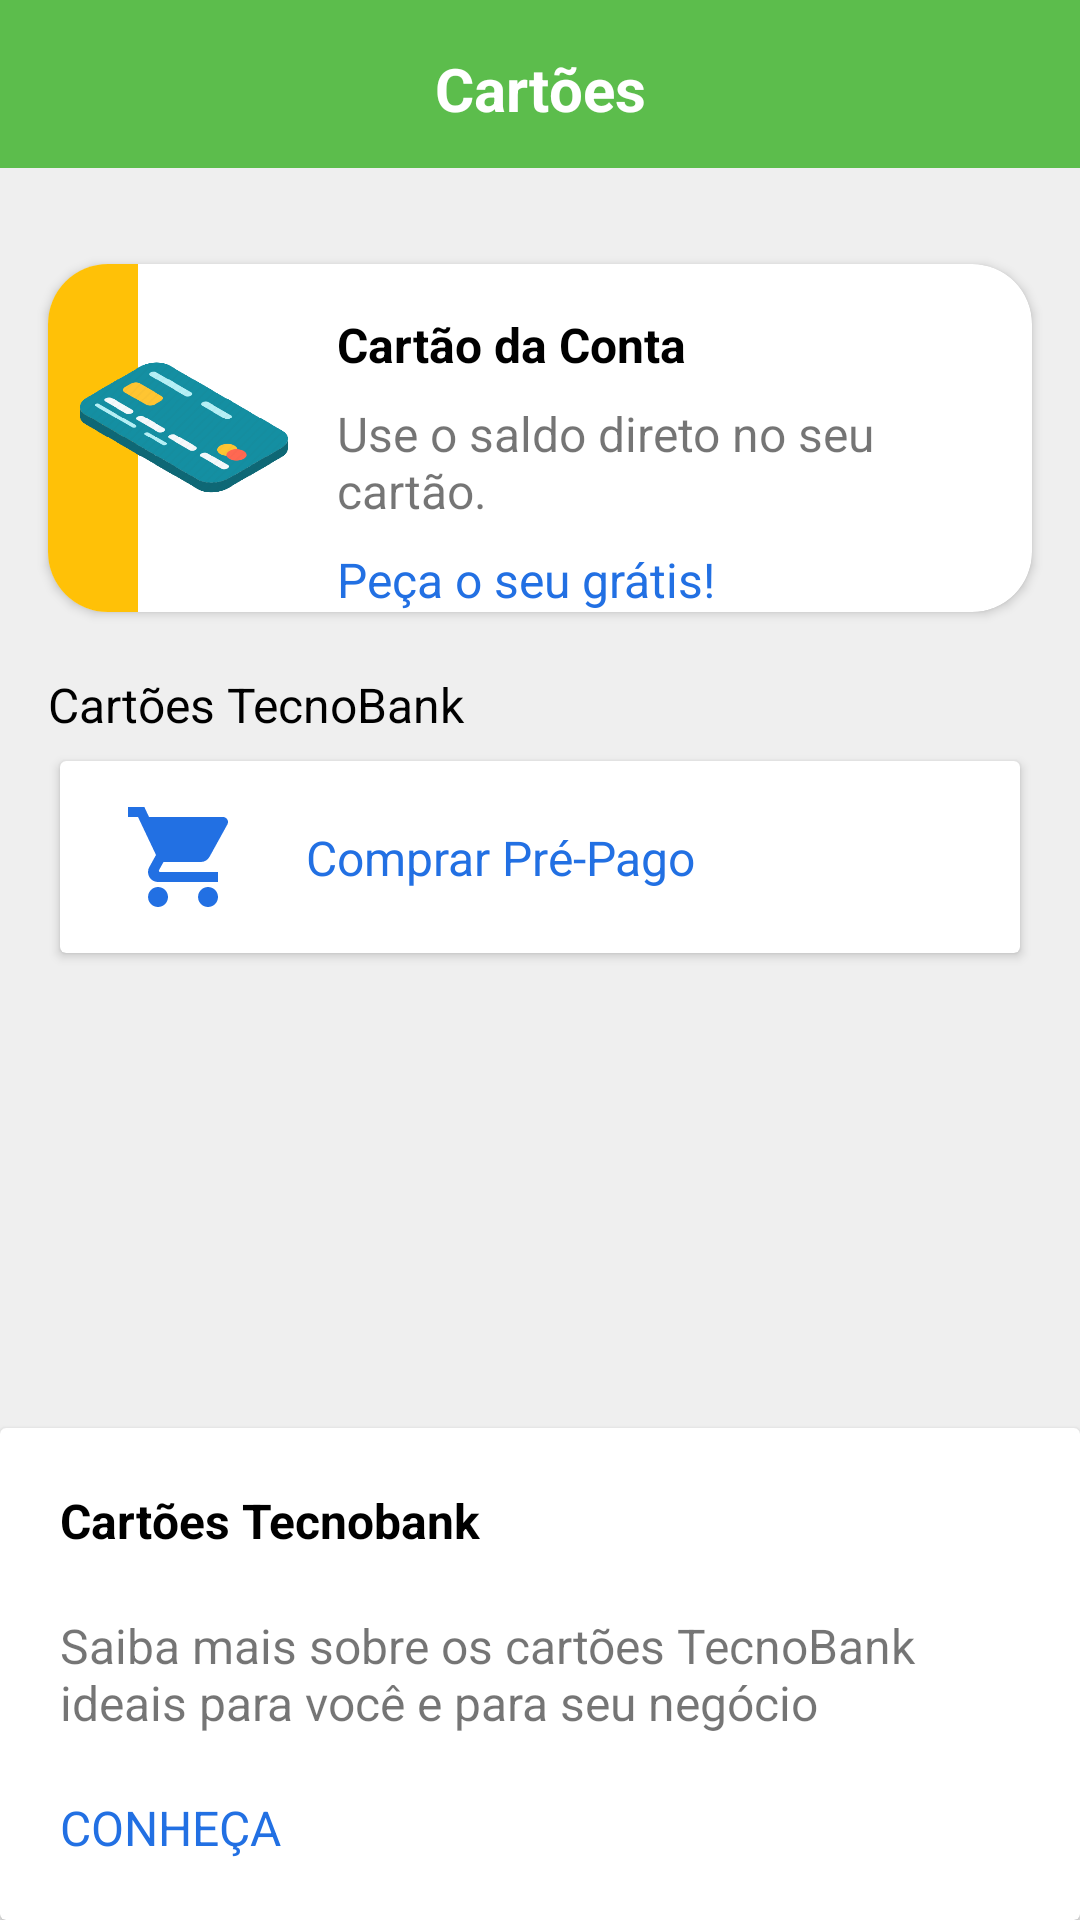

Where to tap for icons on this 1080×1920 app screen, as point (x, y):
cartao: point (184, 427)
shopping: point (178, 857)
